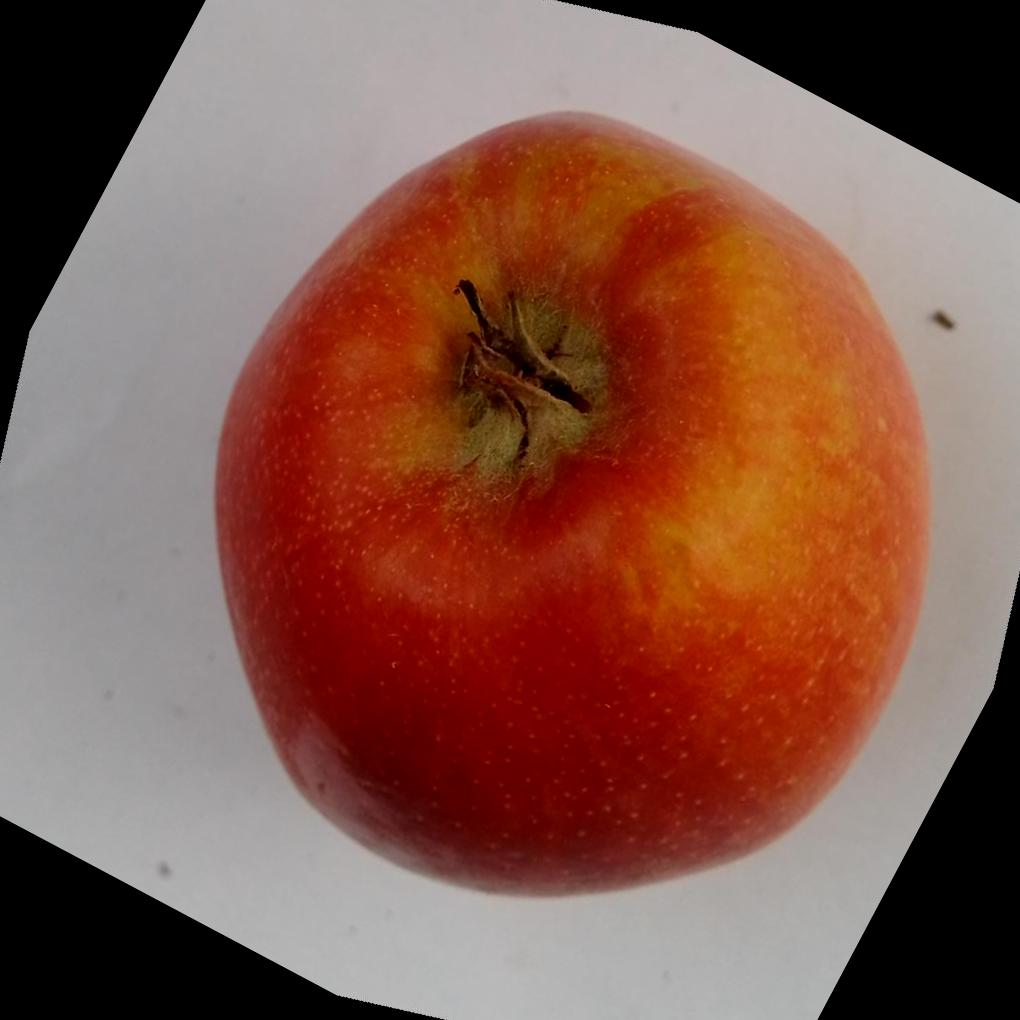FreshGuava: (207, 105, 932, 899)
